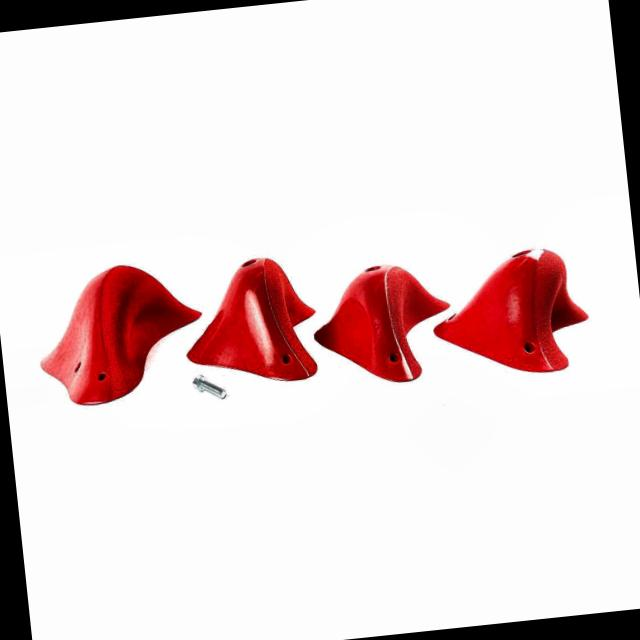Hold: (27, 255, 206, 410), (432, 235, 598, 384), (177, 248, 330, 396), (306, 258, 454, 393)
